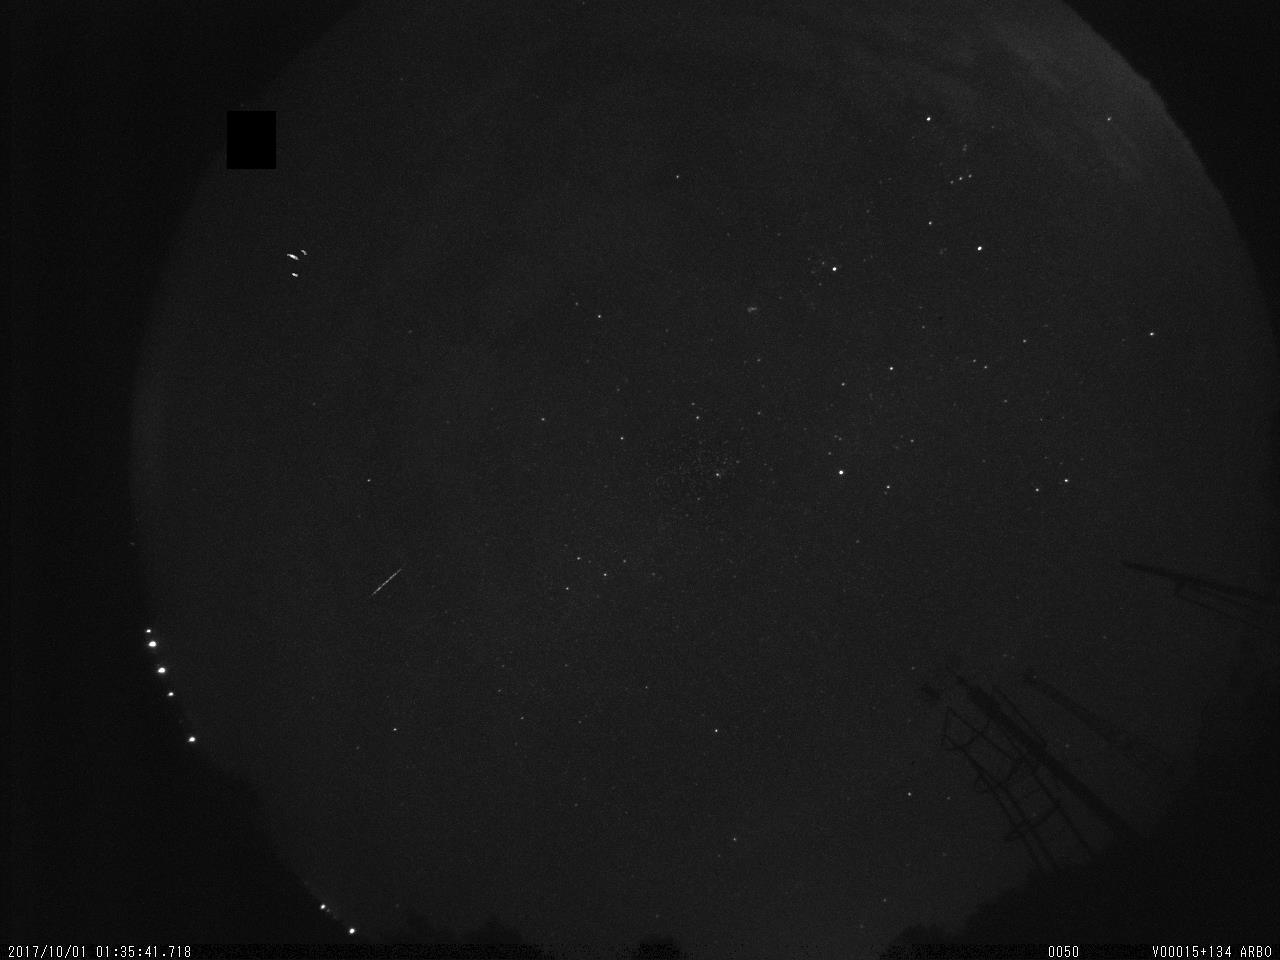TLE: (272, 225, 321, 287)
